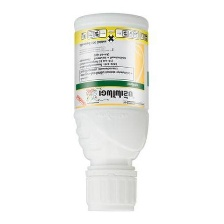insecticide: (70, 10, 151, 216)
